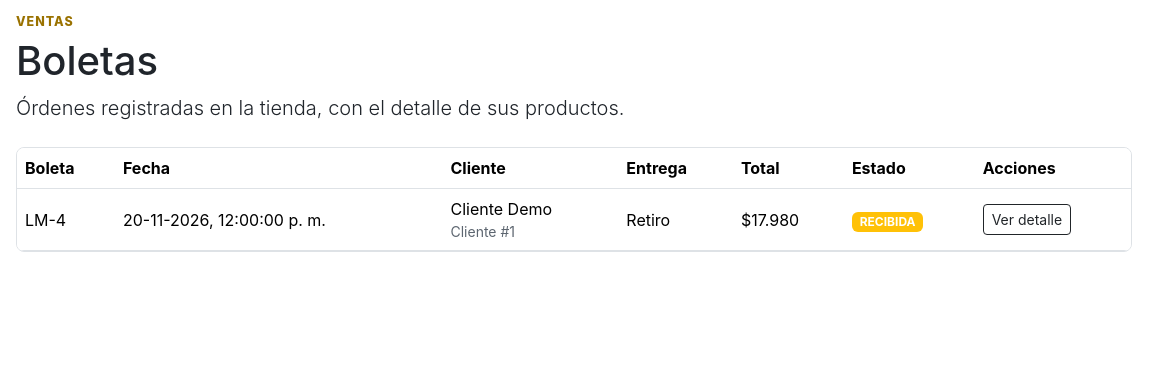
Test: Integrante 3 - Boletas por rol › 34. el vendedor ve las boletas con su detalle pero no puede anular; el administrador sí
This screenshot has width=1149, height=384.
Later steps or results of the test are not shown.
expect the text "LM-4" is shown: met, box [17,189,115,251]
expect the text "Cliente #1" is shown: met, box [450,223,515,240]
Click the button "Ver detalle".
click(1027, 220)  # box [983,204,1071,235]
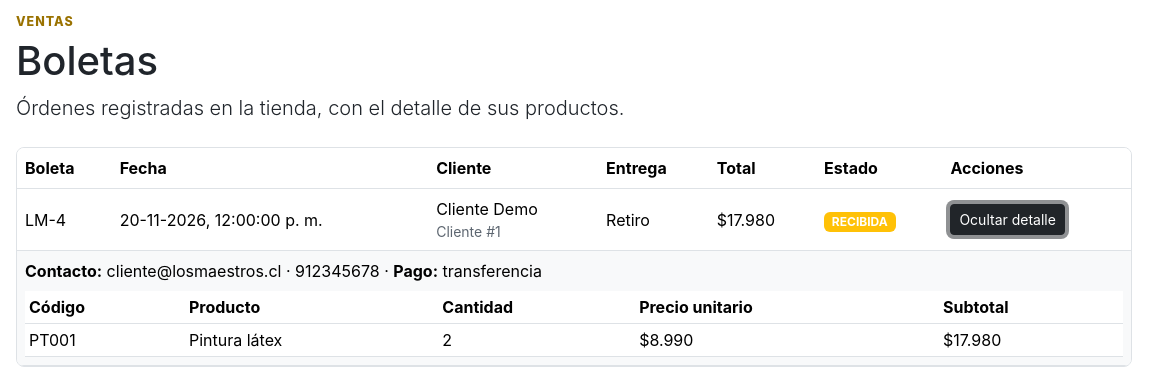
expect the text "Pintura látex" is shown: met, box [185,324,438,357]
expect the table named "detalle de la boleta lm-4" is shown: met, box [25,291,1123,357]
